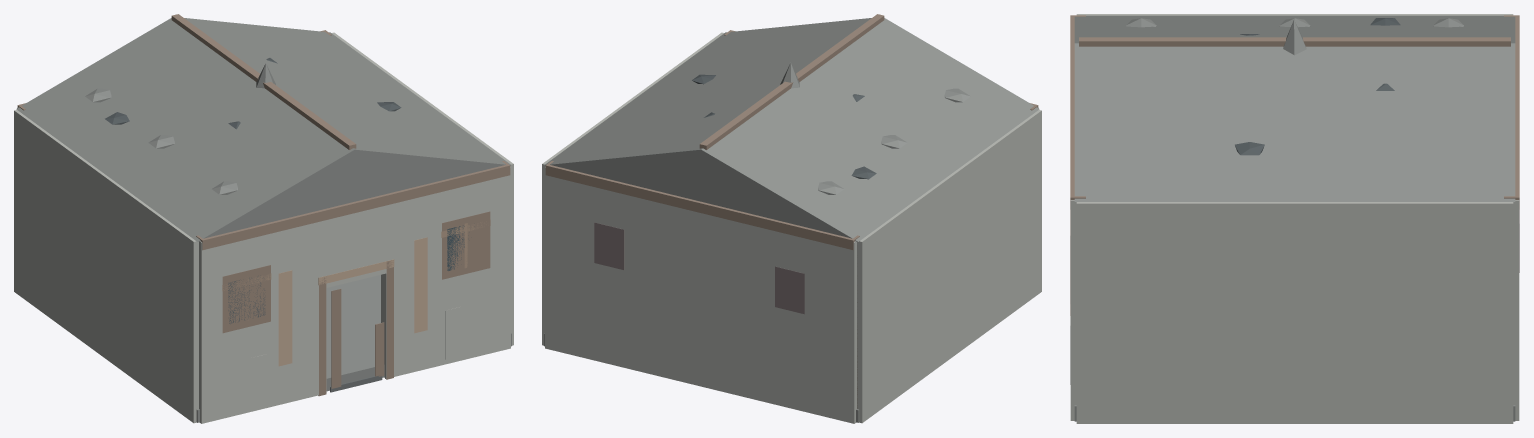
File: mourners_ossuary_abandoned.glb
The picture shows the model from 3 angles, left to right: view 1: azimuth 30°, elevation 25°; view 2: azimuth 150°, elevation 25°; view 3: azimuth 270°, elevation 25°; orthographic projection. The views are drawn at different scales.
Parts seen in each view (by area): view 1: mourners_ossuary_mat_01, mourners_ossuary_mat_00, mourners_ossuary_mat_02, mourners_ossuary_mat_03, mourners_ossuary_mat_05, mourners_ossuary_mat_06, mourners_ossuary_mat_08; view 2: mourners_ossuary_mat_01, mourners_ossuary_mat_00, mourners_ossuary_mat_02, mourners_ossuary_mat_07, mourners_ossuary_mat_08; view 3: mourners_ossuary_mat_01, mourners_ossuary_mat_00, mourners_ossuary_mat_02, mourners_ossuary_mat_08.
Part boxes in pixels (x1=…): mourners_ossuary_mat_01: x1=14, y1=32, x2=513, y2=423; mourners_ossuary_mat_00: x1=16, y1=18, x2=511, y2=422; mourners_ossuary_mat_02: x1=17, y1=14, x2=510, y2=396; mourners_ossuary_mat_03: x1=278, y1=237, x2=427, y2=366; mourners_ossuary_mat_05: x1=228, y1=225, x2=464, y2=323; mourners_ossuary_mat_06: x1=222, y1=220, x2=490, y2=320; mourners_ossuary_mat_08: x1=105, y1=58, x2=401, y2=129; mourners_ossuary_mat_01: x1=542, y1=32, x2=1041, y2=423; mourners_ossuary_mat_00: x1=544, y1=18, x2=1039, y2=422; mourners_ossuary_mat_02: x1=545, y1=14, x2=1038, y2=408; mourners_ossuary_mat_07: x1=594, y1=222, x2=804, y2=314; mourners_ossuary_mat_08: x1=692, y1=74, x2=876, y2=179; mourners_ossuary_mat_01: x1=1070, y1=14, x2=1519, y2=423; mourners_ossuary_mat_00: x1=1074, y1=15, x2=1515, y2=421; mourners_ossuary_mat_02: x1=1070, y1=15, x2=1519, y2=303; mourners_ossuary_mat_08: x1=1235, y1=18, x2=1400, y2=155.
Bounding box in the file's own units: 3.97 × 3.04 × 3.98.
